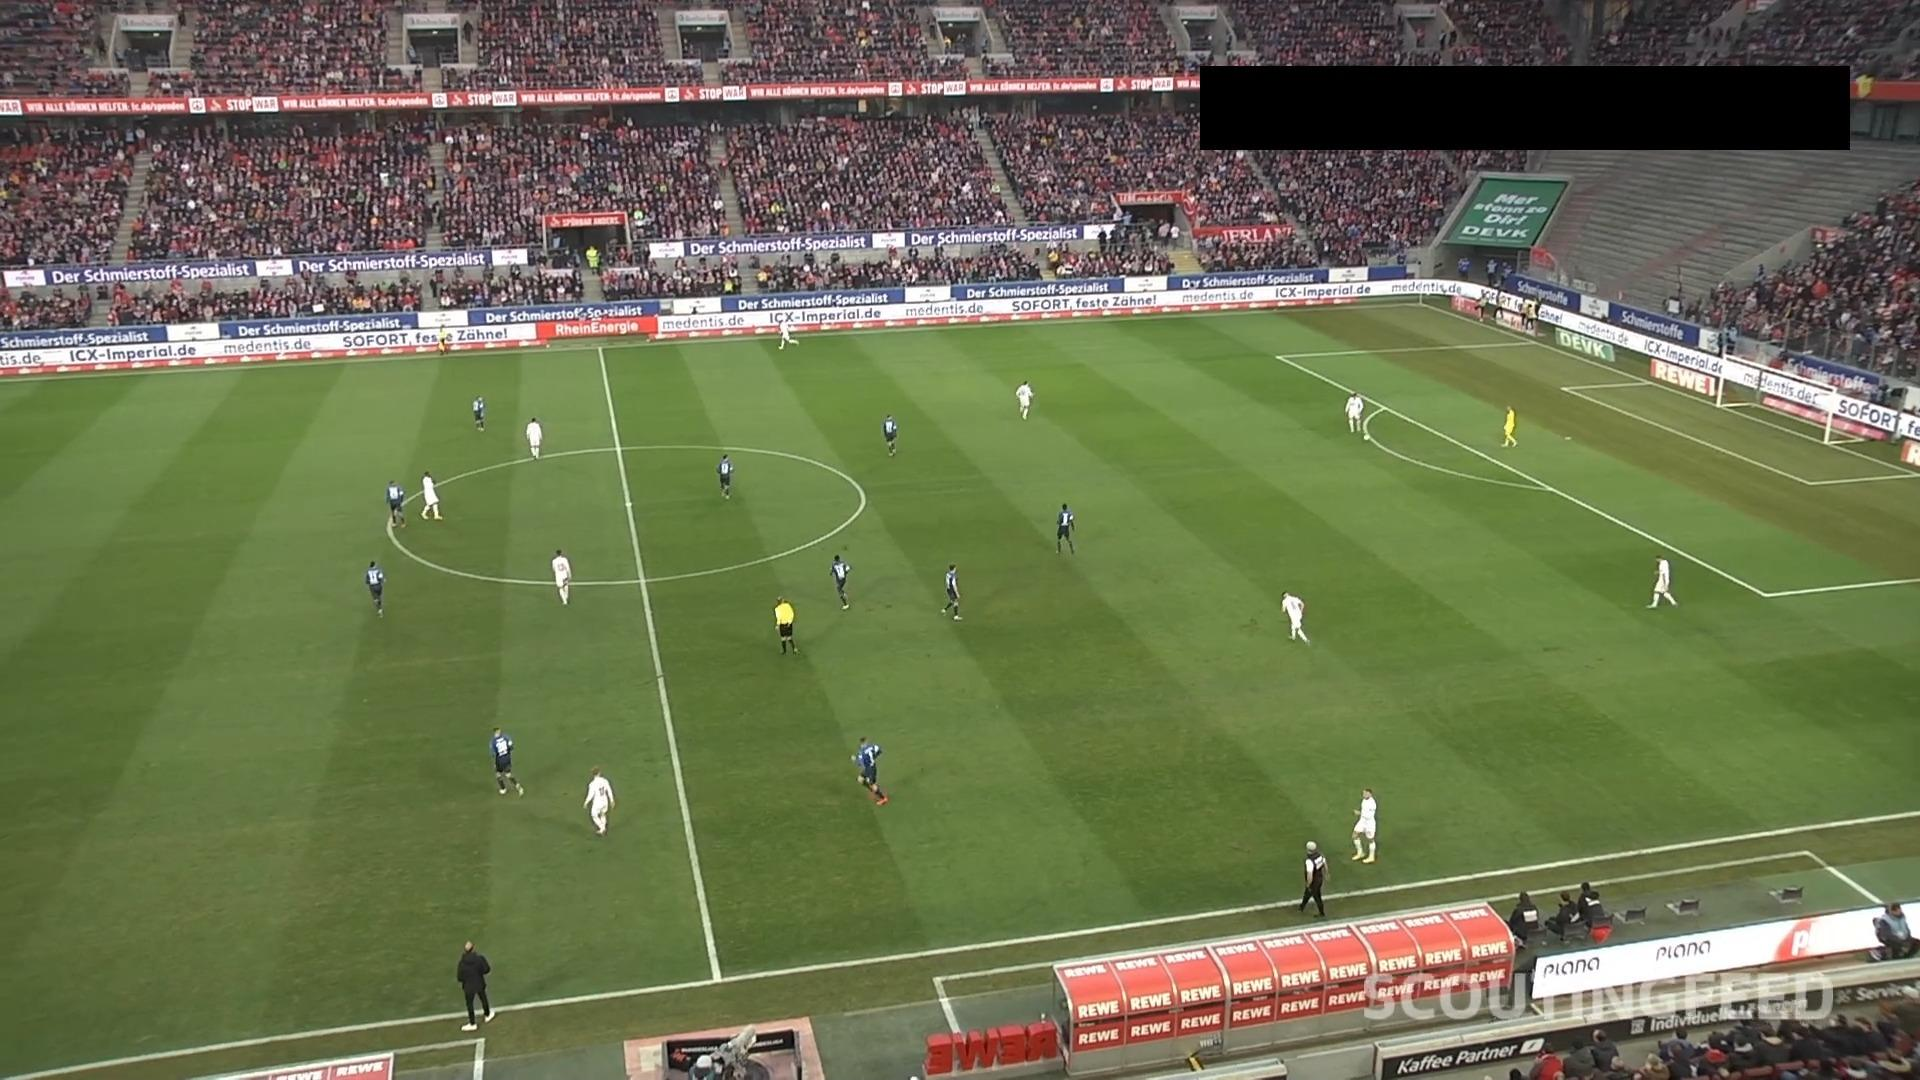ball: (1362, 433, 1371, 442)
